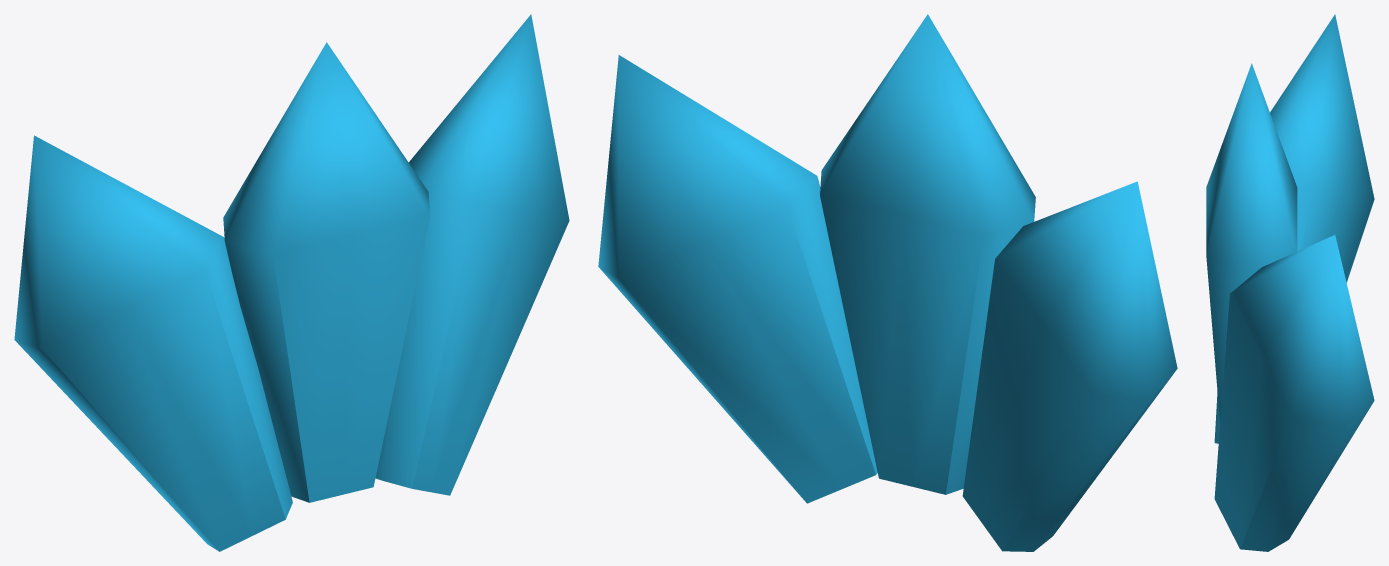
Rendered from ice2.FBX.
3 renders of one model, left to right at view 1: azimuth 30°, elevation 25°; view 2: azimuth 150°, elevation 25°; view 3: azimuth 270°, elevation 25°, orthographic. The views are drawn at different scales.
Parts seen in each view (by area): view 1: Box004, Box001, Box003; view 2: Box003, Box001, Box004; view 3: Box003, Box001, Box004.
Boxes of the visible parts, x1=… form: Box004: x1=14, y1=135, x2=292, y2=551; Box001: x1=223, y1=42, x2=430, y2=502; Box003: x1=375, y1=14, x2=569, y2=495; Box003: x1=598, y1=55, x2=877, y2=503; Box001: x1=820, y1=14, x2=1035, y2=494; Box004: x1=962, y1=181, x2=1177, y2=551; Box003: x1=1214, y1=235, x2=1374, y2=551; Box001: x1=1206, y1=63, x2=1297, y2=423; Box004: x1=1214, y1=14, x2=1374, y2=443.
Bounding box in the file's own units: 25.02 × 21.82 × 7.59.
